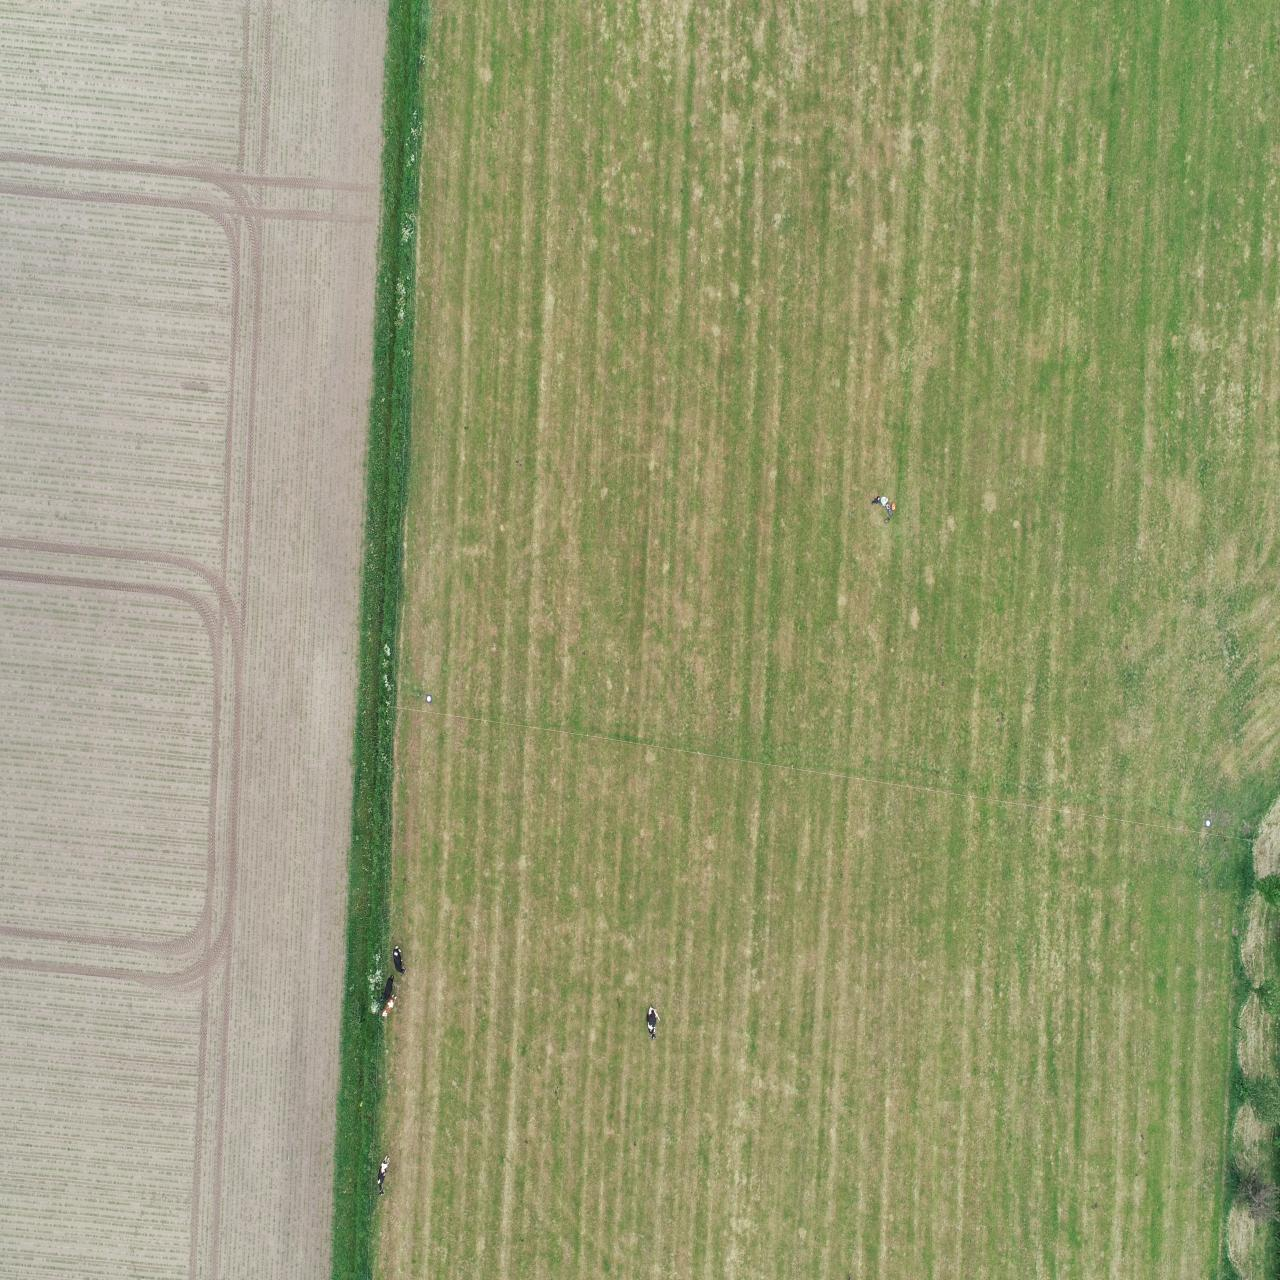cow: (375, 1149, 392, 1197), (390, 942, 408, 975), (646, 1002, 660, 1042), (380, 972, 395, 1002), (381, 994, 397, 1017)
